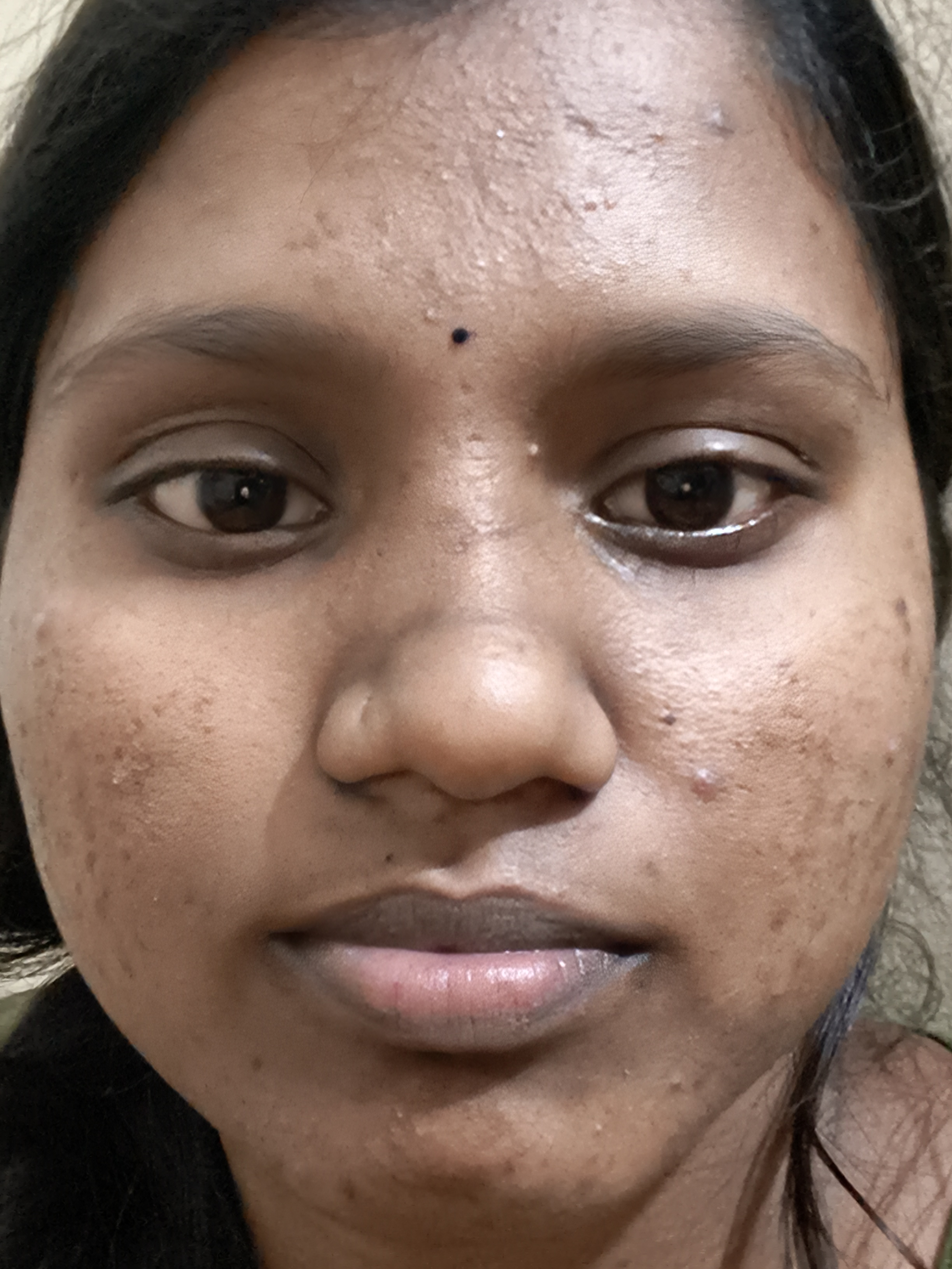closed_comedone: (461, 247, 522, 275), (397, 85, 446, 119), (371, 1105, 417, 1140), (580, 1113, 617, 1142)
macrocomedone: (408, 296, 445, 334)
nodule: (688, 751, 739, 816)
pustule: (99, 767, 140, 799), (517, 425, 547, 461)
